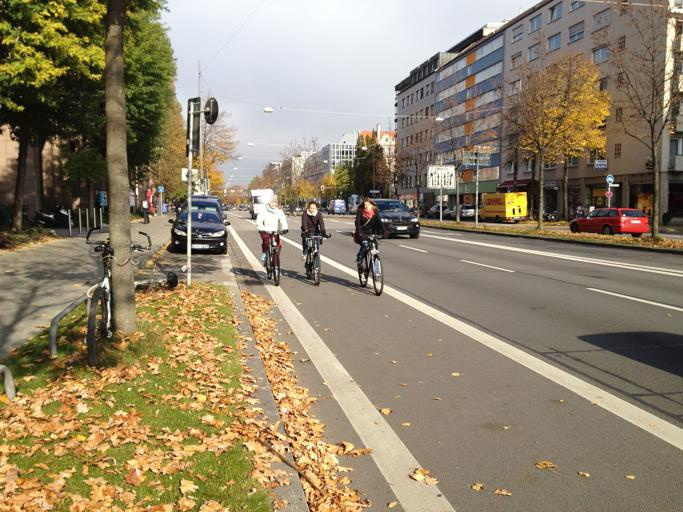non-vehicle: (81, 224, 157, 365), (83, 268, 178, 300), (352, 231, 384, 295), (257, 229, 289, 285), (301, 230, 331, 286)
